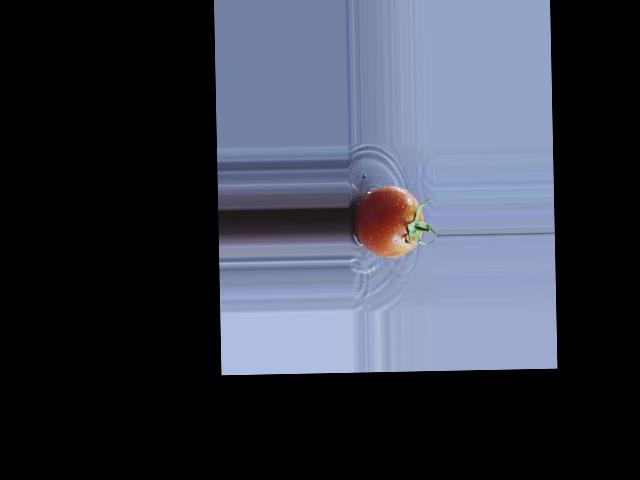tomato: (353, 186, 423, 258)
